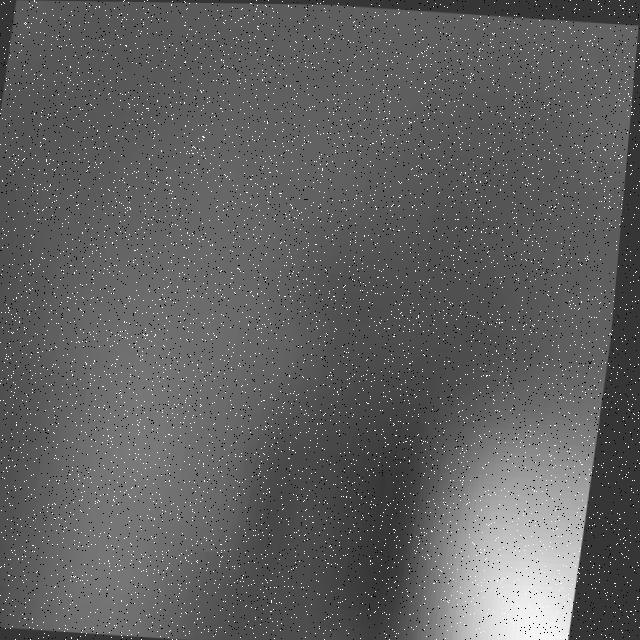person: (406, 363, 614, 640)
